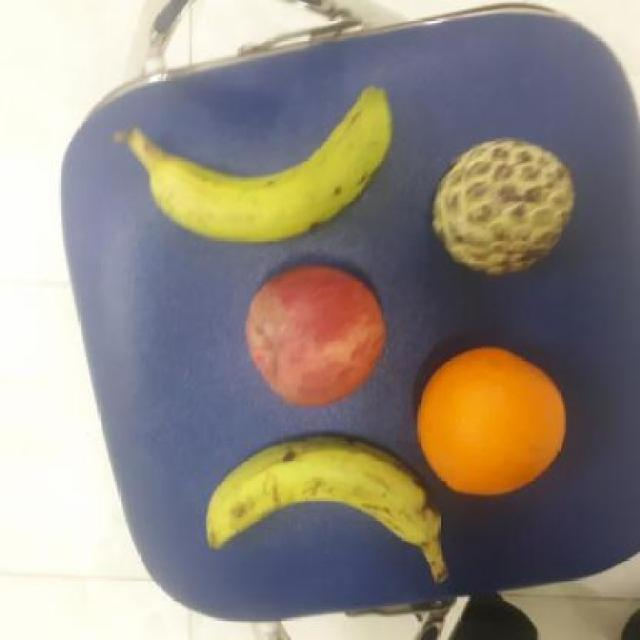apple: (245, 260, 389, 408)
banana: (131, 79, 394, 247), (202, 428, 446, 552)
oren: (410, 344, 568, 498)
sugar apple: (428, 133, 577, 278)
